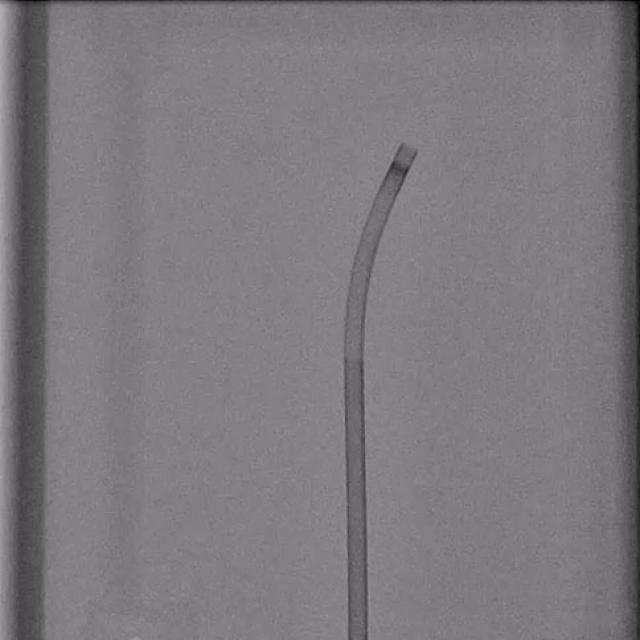bend: (344, 349, 365, 359)
entry: (348, 634, 369, 640)
marker: (387, 159, 411, 179)
tip: (401, 142, 419, 154)
